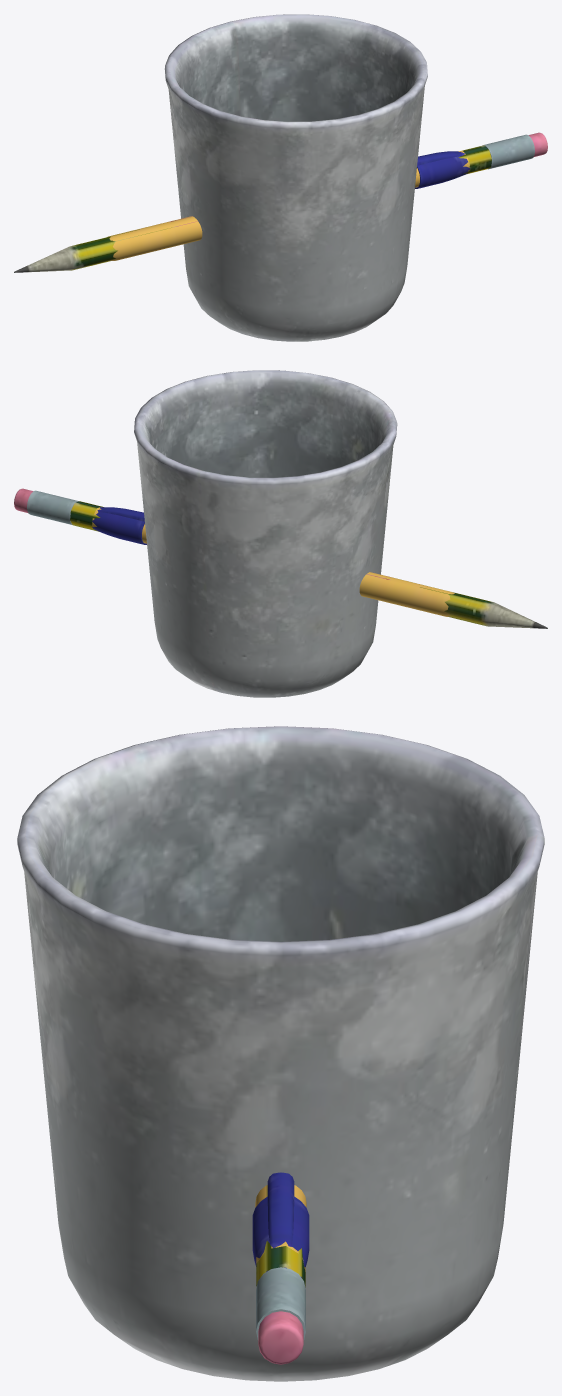
The model's file is stationery.gltf.
The picture shows the model from 3 angles, top to bottom: view 1: azimuth 30°, elevation 25°; view 2: azimuth 150°, elevation 25°; view 3: azimuth 270°, elevation 25°; orthographic projection. The views are drawn at different scales.
Visible parts, largest first — view 1: pencilcup, pencil_new_a, pen_blue; view 2: pencilcup, pencil_new_a, pen_blue; view 3: pencilcup, pencil_new_a, pen_blue.
Boxes of the visible parts, <box> form: pencilcup: <box>164,14,427,341</box>; pencil_new_a: <box>14,132,547,272</box>; pen_blue: <box>108,151,470,260</box>; pencilcup: <box>134,370,397,697</box>; pencil_new_a: <box>14,488,547,628</box>; pen_blue: <box>92,507,454,616</box>; pencilcup: <box>17,726,544,1381</box>; pencil_new_a: <box>256,1185,305,1364</box>; pen_blue: <box>252,1172,309,1277</box>.
Size of the model in its own units: 0.1939 by 0.0839 by 0.0837.
1 material, 1 textured.
